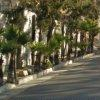Tree: (13, 0, 100, 48)
